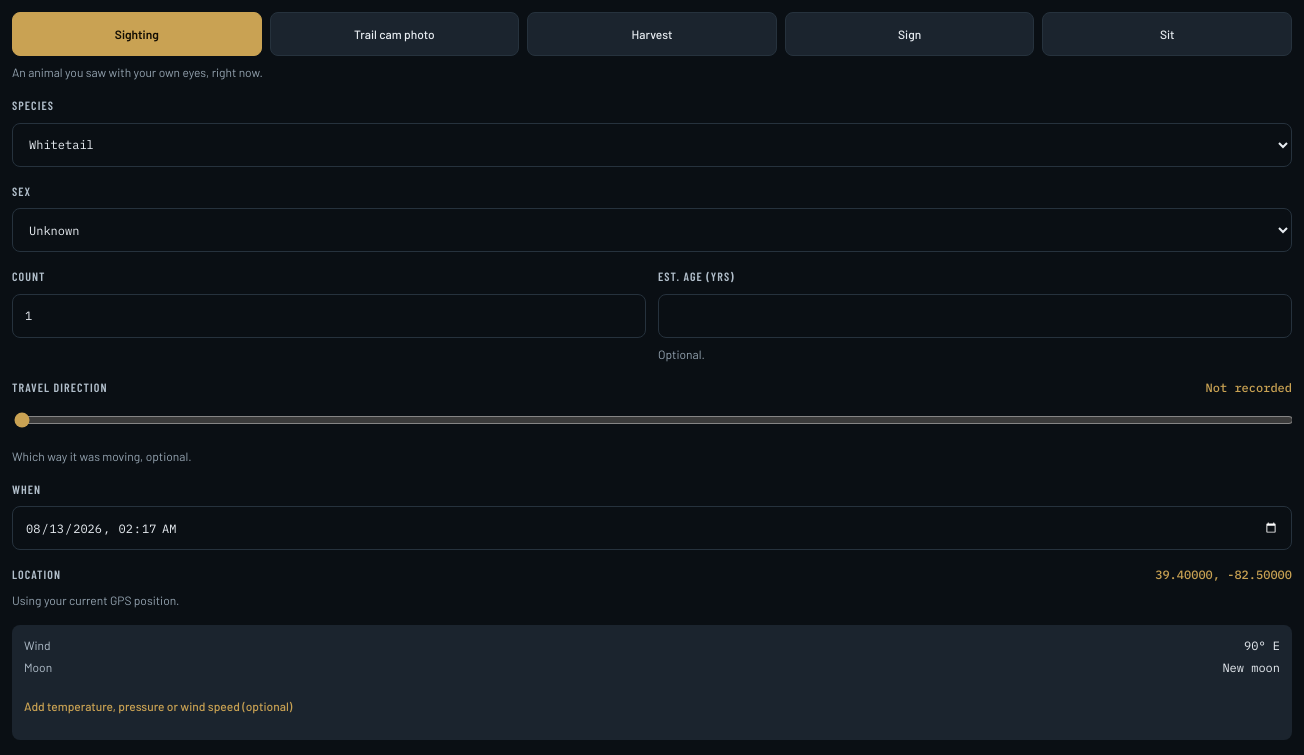
Test case: ObservationForm — kind-aware fields (R5) › Sit shows the blank-sit toggle and defaults to showing "what you saw" fields (not-blank)
The width and height of the screenshot is (1304, 755).
Click the button with class "obs-kind-btn" showing "Sit".
click(1167, 34)  # box [1042,12,1292,56]
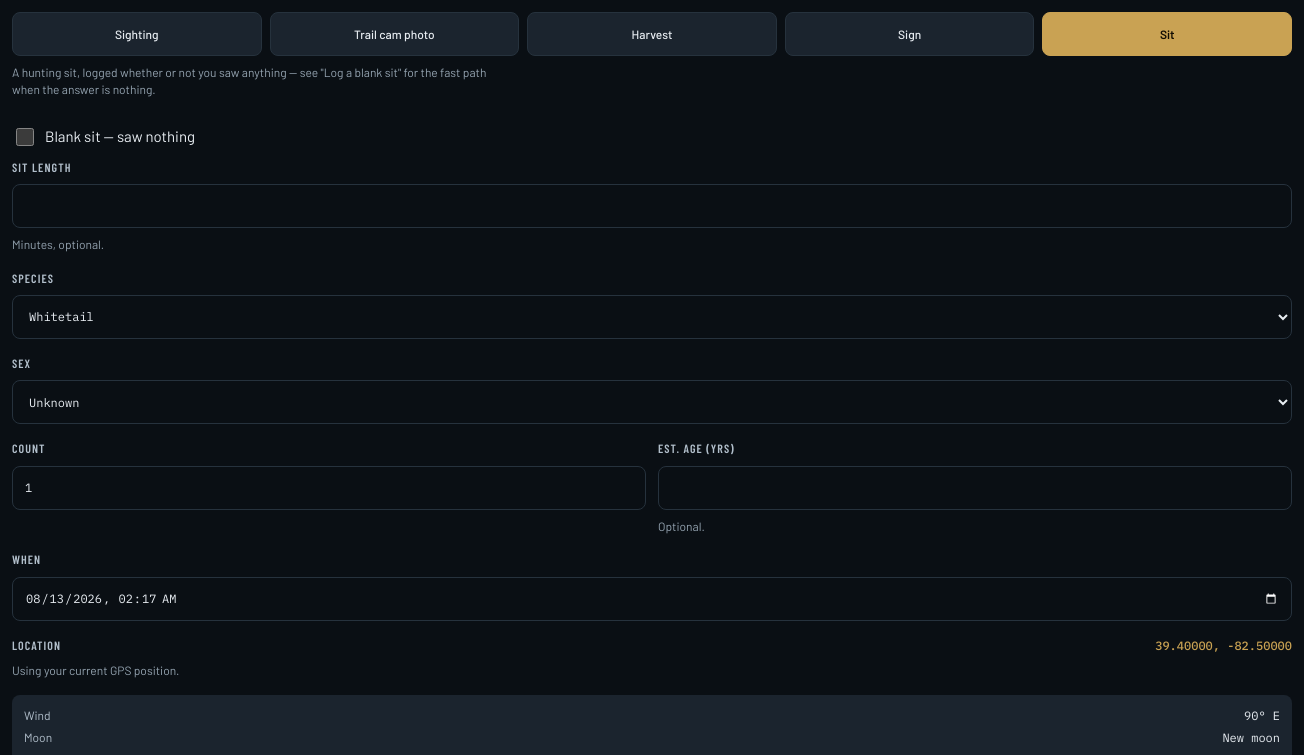
Check: the dropdown with id "obs-species" is shown, box [12,295,1292,339]
Check: the checkbox labelled "Blank sit — saw nothing" is shown
Check: the checkbox labelled "Blank sit — saw nothing" is not checked
Click the checkbox labelled "Blank sit — saw nothing".
click(25, 137)  # box [16,128,34,146]
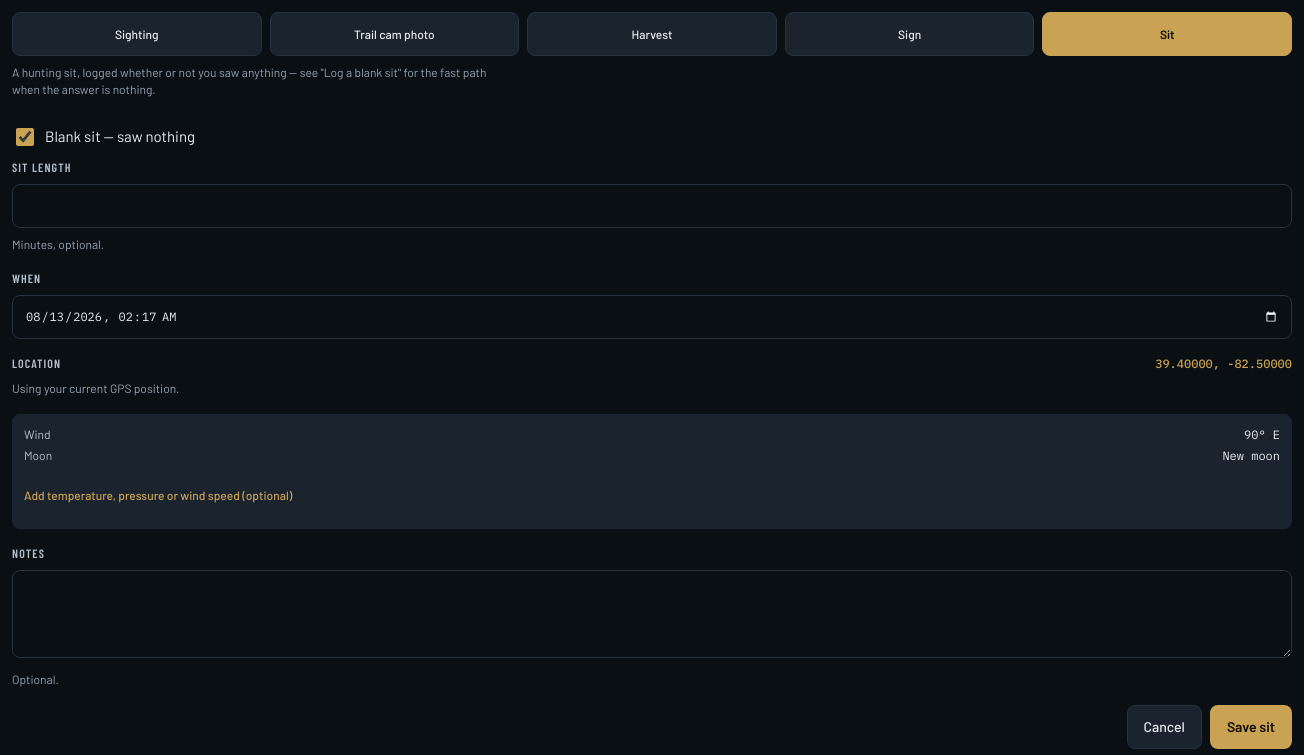
Check: the label with id "obs-species" is gone
